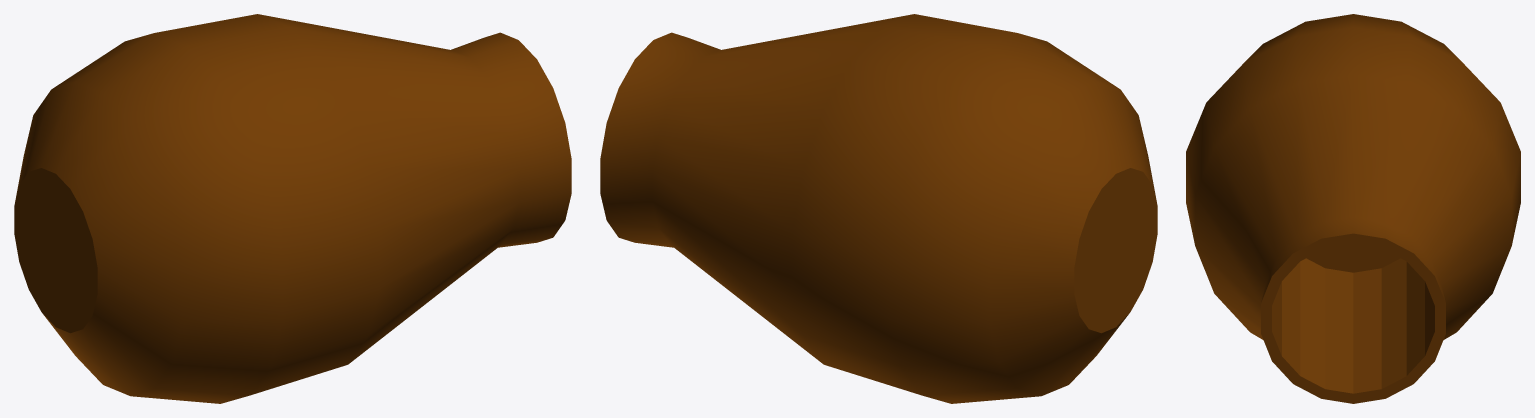
Rendered from barrel.obj.
The picture shows the model from 3 angles, left to right: view 1: azimuth 30°, elevation 25°; view 2: azimuth 150°, elevation 25°; view 3: azimuth 270°, elevation 25°; orthographic projection. The views are drawn at different scales.
Parts seen in each view (by area): view 1: Cylinder001; view 2: Cylinder001; view 3: Cylinder001.
Boxes of the visible parts, x1,y1,x2,y2 form: Cylinder001: [14, 14, 571, 403]; Cylinder001: [600, 14, 1157, 403]; Cylinder001: [1186, 14, 1520, 403].
Bounding box in the file's own units: 163 × 116 × 117.
